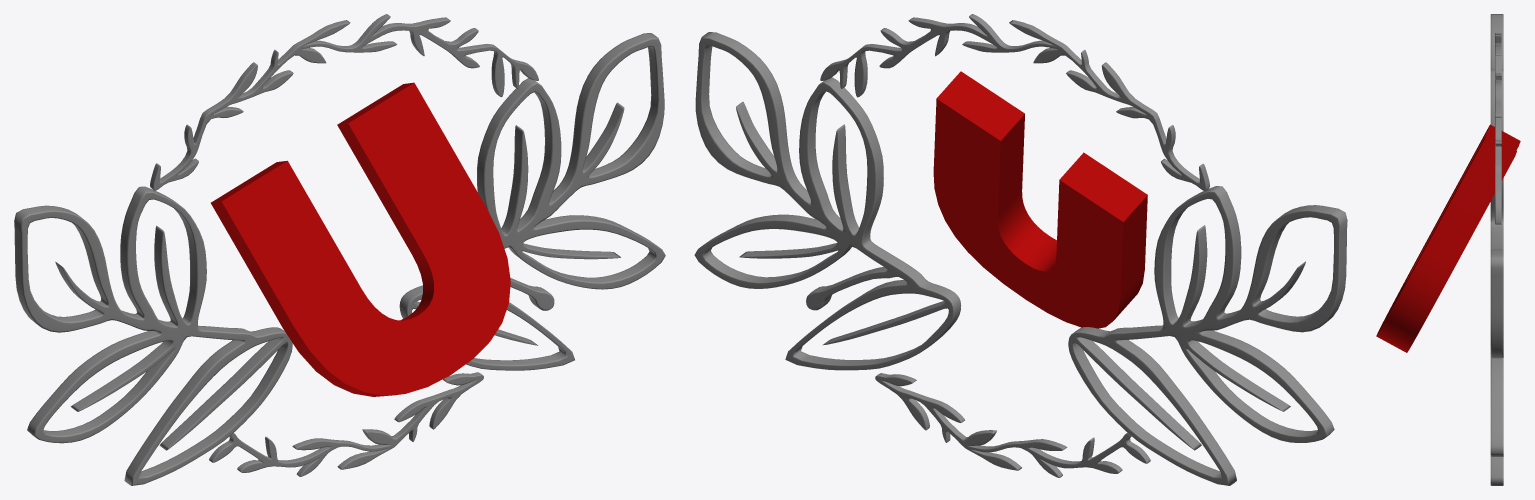
The model's file is PUP-U.glb.
3 views of the same model, side by side, from view 1: azimuth 30°, elevation 25°; view 2: azimuth 150°, elevation 25°; view 3: azimuth 270°, elevation 25° (orthographic). The views are drawn at different scales.
Visible parts, largest first — view 1: typeMesh1, pPlane11, pPlane12, pPlane15; view 2: typeMesh1, pPlane11, pPlane12, pPlane15; view 3: typeMesh1, pPlane12, pPlane15, pPlane11.
Part boxes in pixels (box(x1,y1,x2,y2)): typeMesh1: box(211, 82, 510, 396); pPlane11: box(14, 186, 292, 485); pPlane12: box(399, 33, 665, 370); pPlane15: box(150, 14, 538, 476); typeMesh1: box(933, 71, 1147, 328); pPlane11: box(1068, 186, 1347, 485); pPlane12: box(694, 32, 961, 370); pPlane15: box(820, 14, 1209, 477); typeMesh1: box(1376, 124, 1520, 352); pPlane12: box(1490, 221, 1503, 485); pPlane15: box(1495, 32, 1501, 224); pPlane11: box(1490, 14, 1503, 220).
Bounding box in the file's own units: 148 × 97.7 × 33.16.
